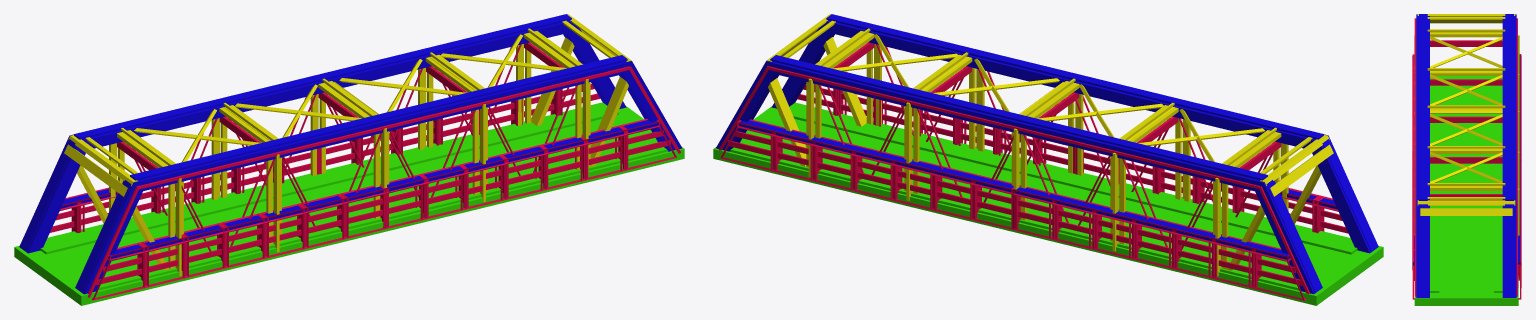
Rendered from Pont.fbx.
The picture shows the model from 3 angles, left to right: view 1: azimuth 30°, elevation 25°; view 2: azimuth 150°, elevation 25°; view 3: azimuth 270°, elevation 25°; orthographic projection. The views are drawn at different scales.
Parts seen in each view (by area): view 1: Pont.001; view 2: Pont.001; view 3: Pont.001.
Boxes of the visible parts, bbox=[...] form: Pont.001: bbox=[14, 14, 684, 305]; Pont.001: bbox=[713, 14, 1383, 305]; Pont.001: bbox=[1412, 14, 1521, 305].
Size of the model in its own units: 1998 by 351 by 407.
